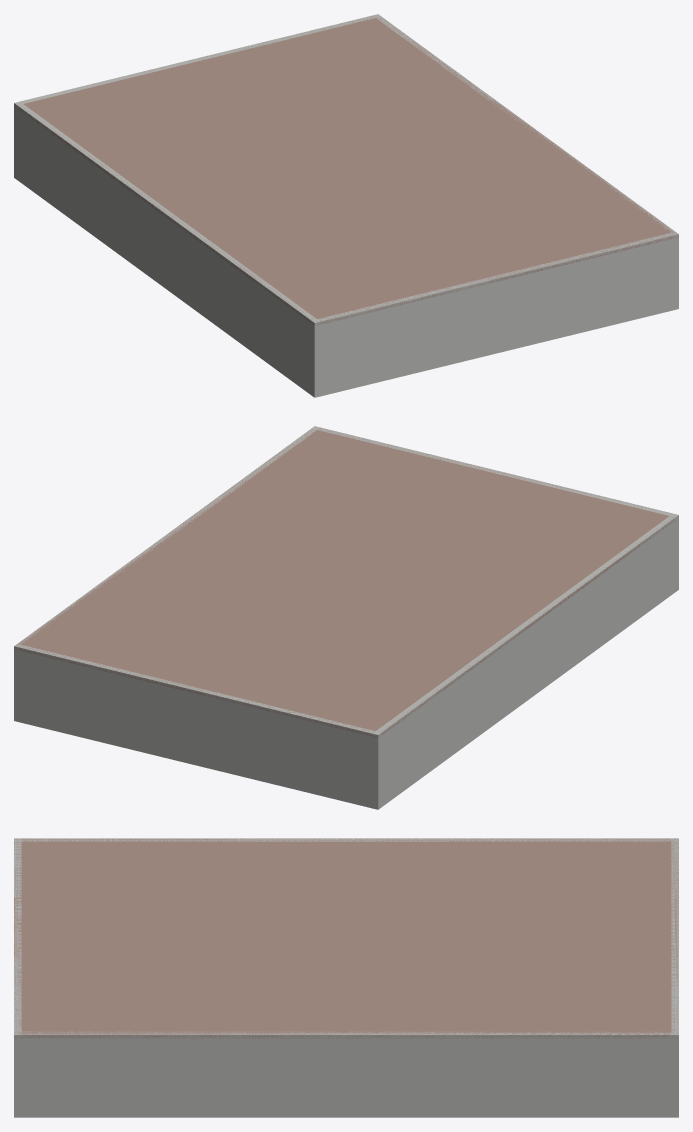
File: depot.glb
3 renders of one model, top to bottom at view 1: azimuth 30°, elevation 25°; view 2: azimuth 150°, elevation 25°; view 3: azimuth 270°, elevation 25°, orthographic. The views are drawn at different scales.
Parts seen in each view (by area): view 1: depot_roof, depot_cmu; view 2: depot_roof, depot_cmu; view 3: depot_roof, depot_cmu.
Part boxes in pixels (x1,y1,x2,y2): depot_roof: (14,14,678,325); depot_cmu: (14,14,678,397); depot_roof: (14,426,675,737); depot_cmu: (14,426,678,809); depot_roof: (14,838,678,1038); depot_cmu: (14,838,678,1117).
Size of the model in its own units: 37.2 by 7.31 by 53.2.
